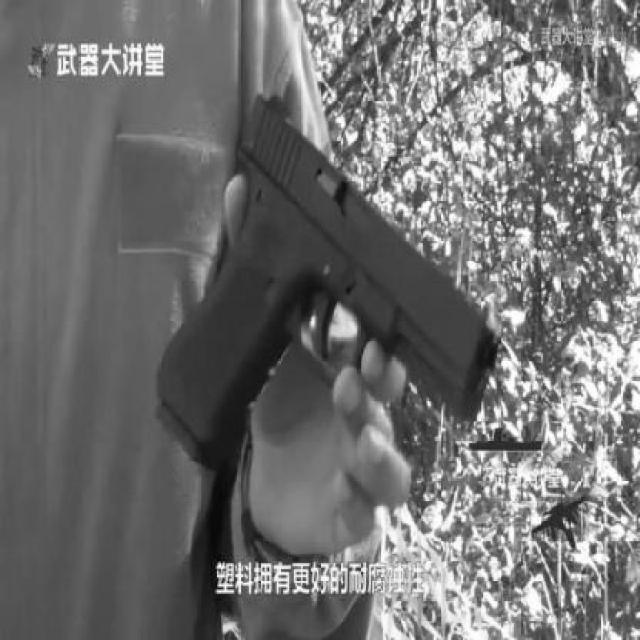non-violence: (0, 0, 412, 640)
weapon: (164, 61, 483, 548)
